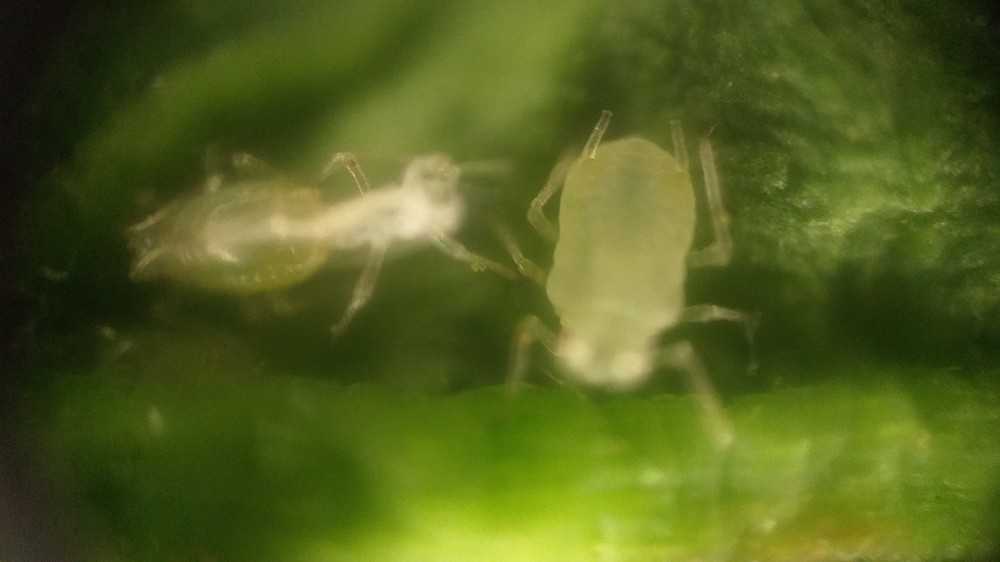Pulgon: (466, 99, 807, 478)
